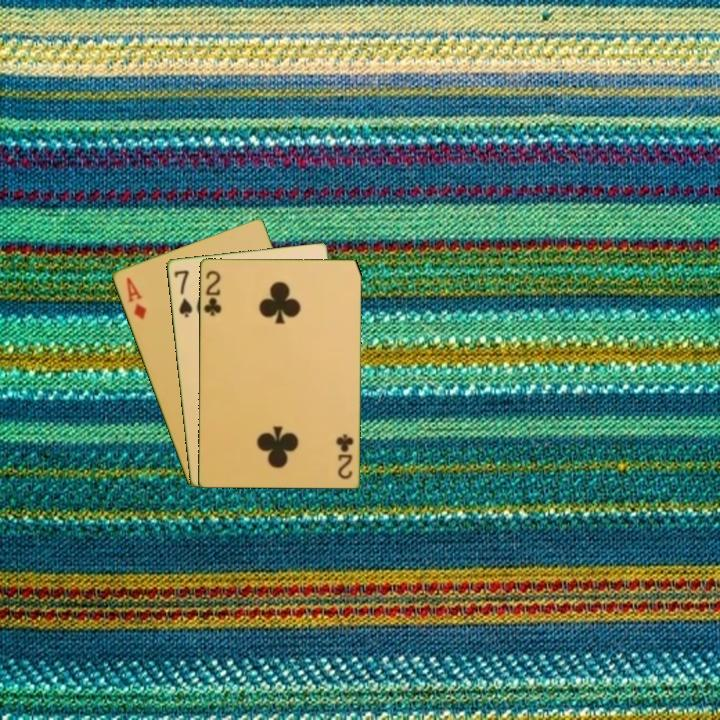2c: (200, 266, 224, 319), (333, 430, 356, 481)
7s: (171, 266, 195, 320)
Ad: (122, 273, 149, 322)
